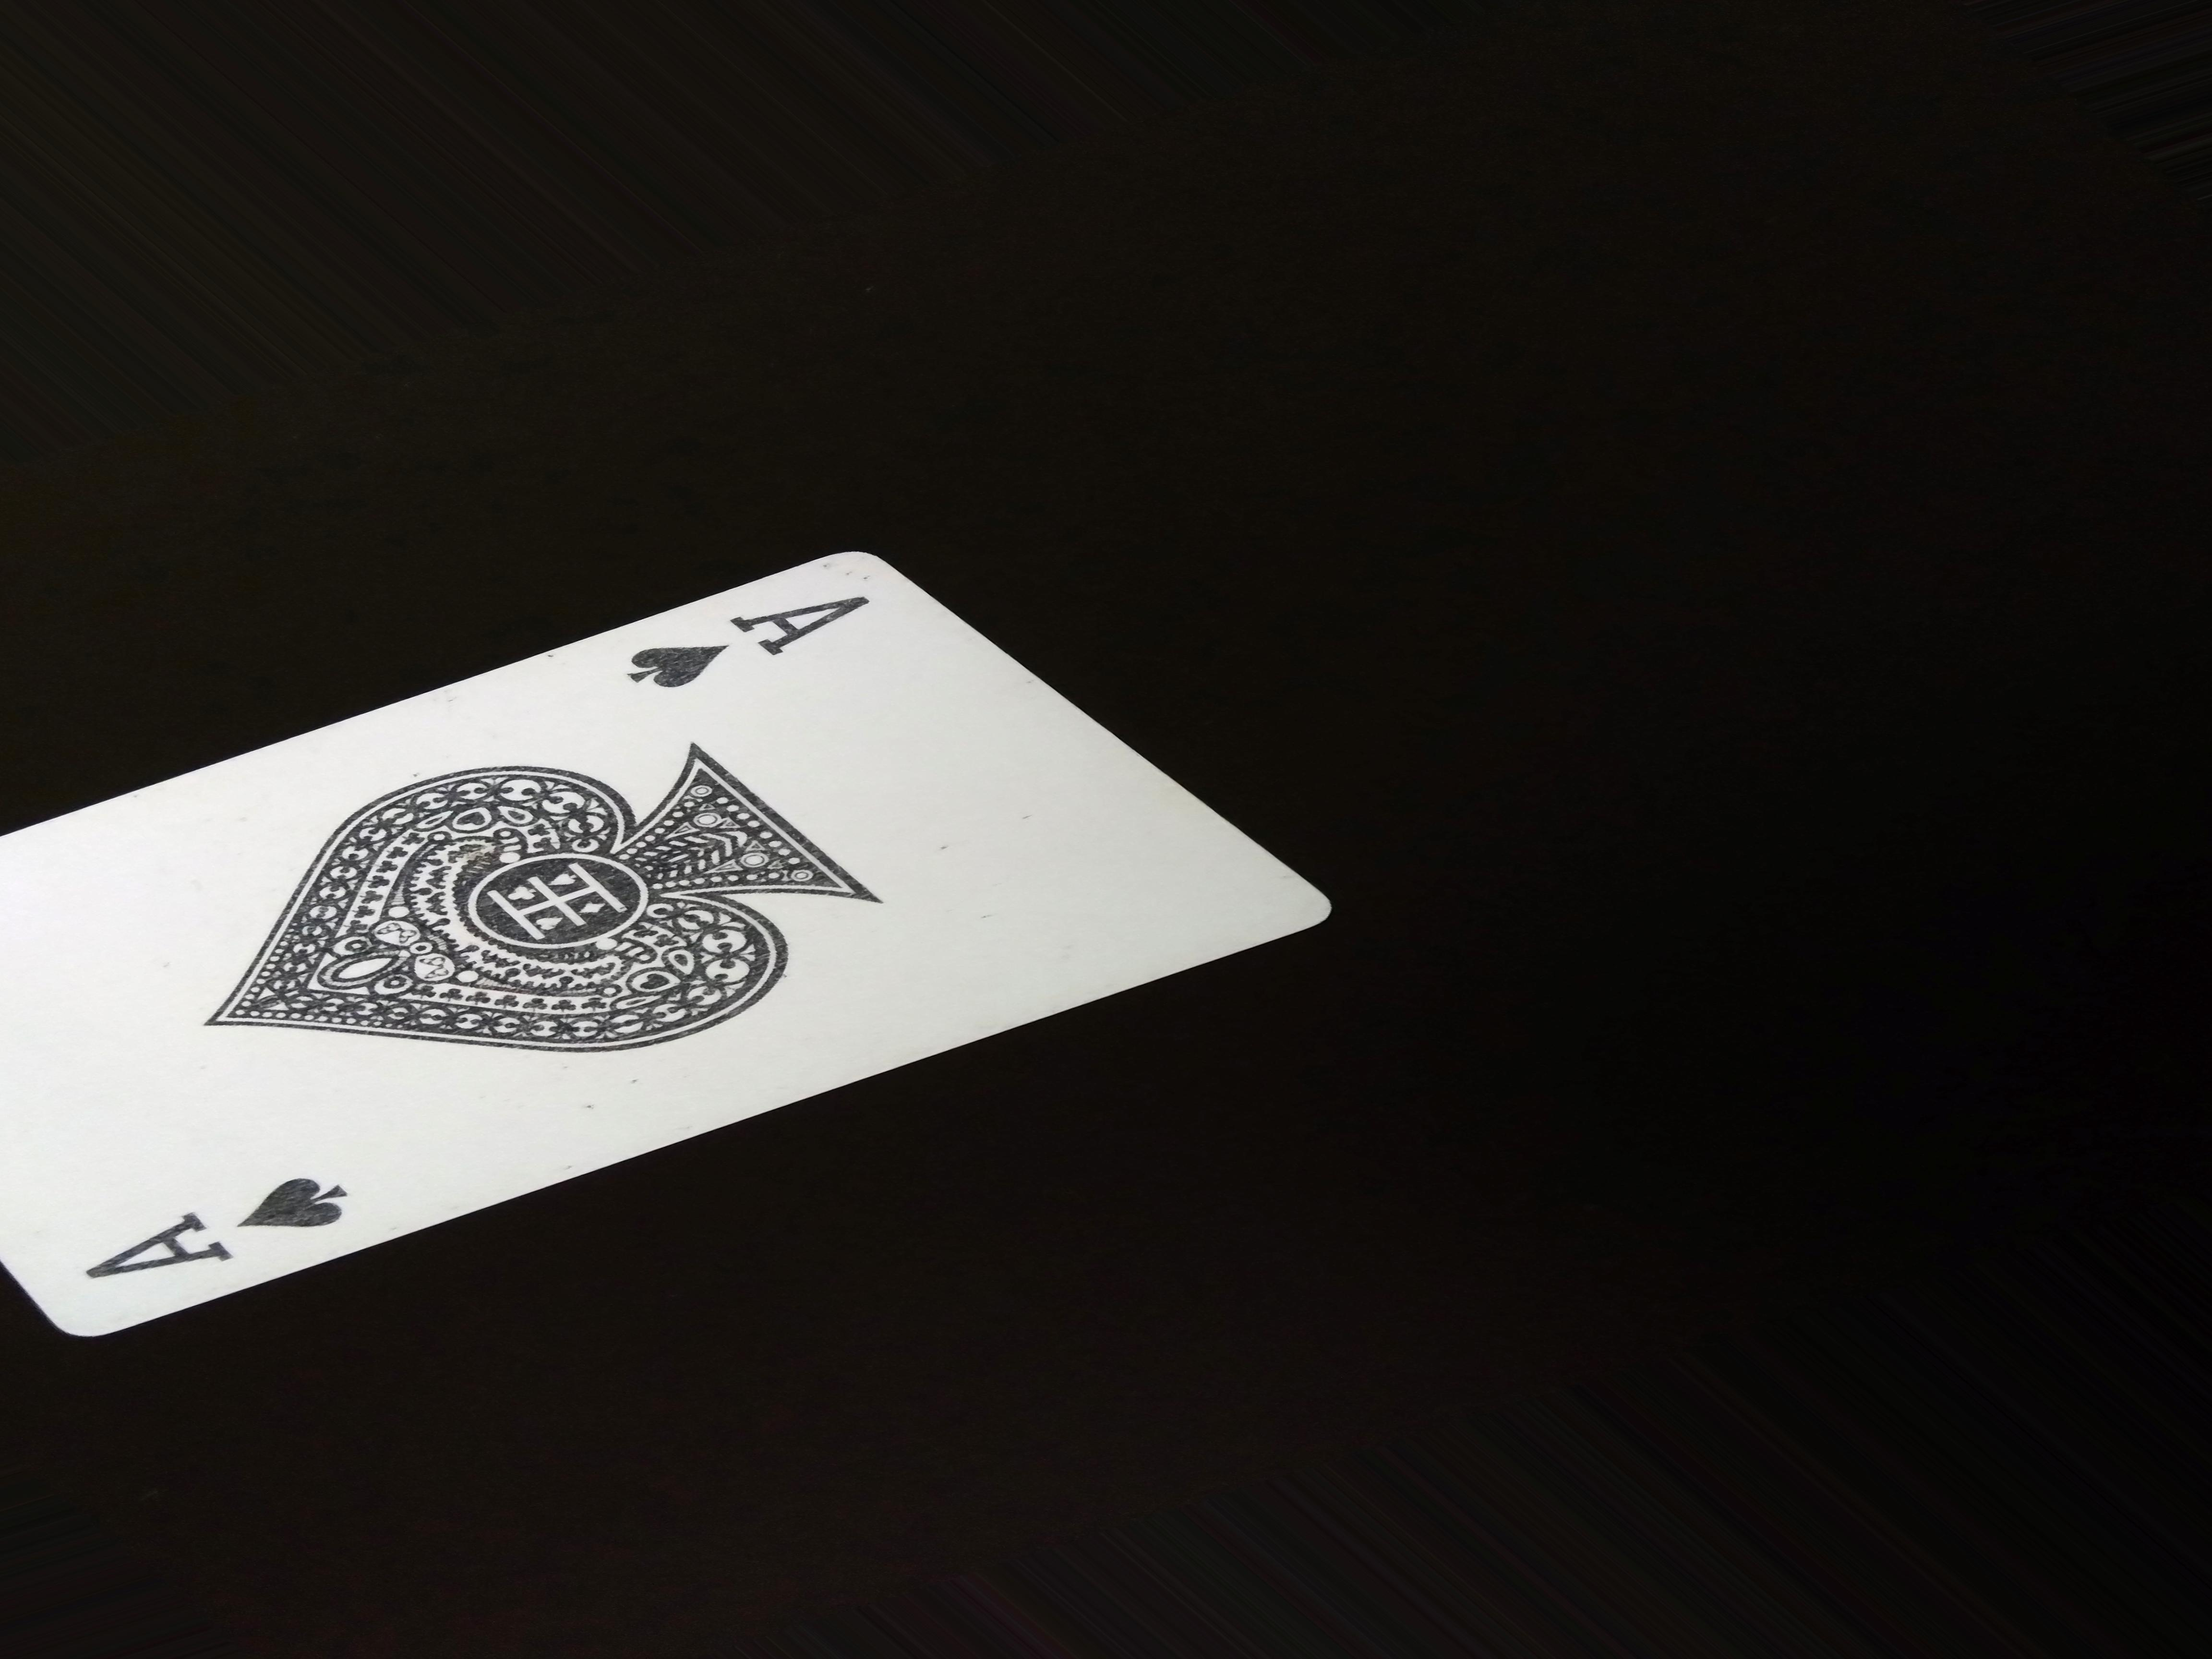AS: (632, 577, 871, 694)
